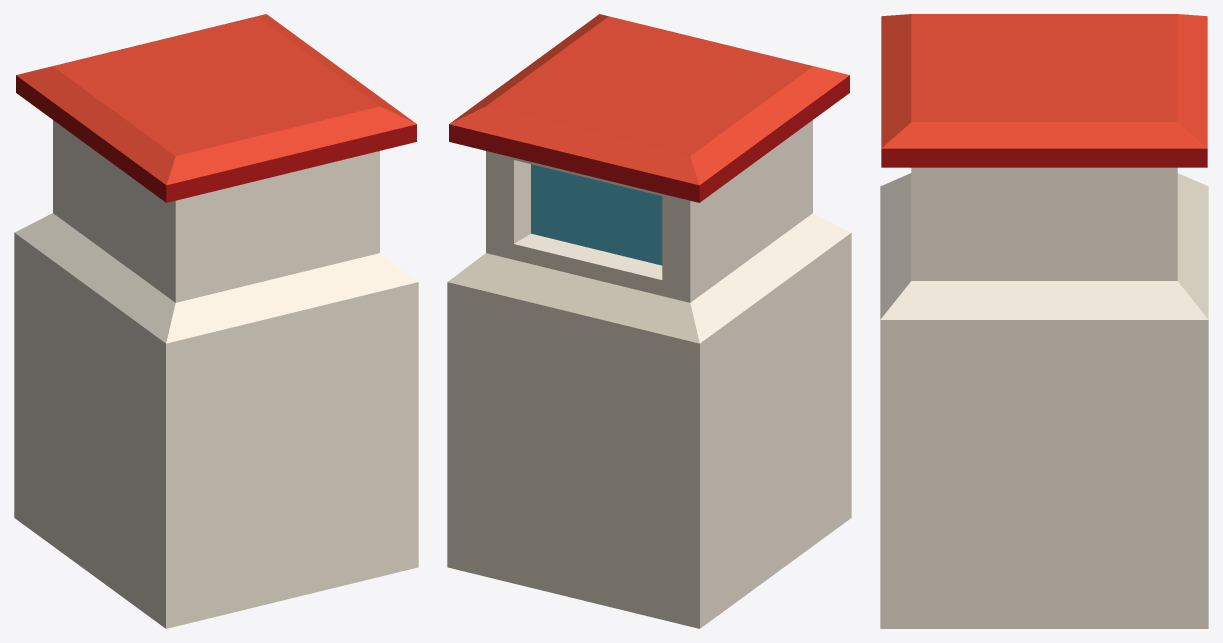
Rendered from WatchTower.fbx.
The picture shows the model from 3 angles, left to right: view 1: azimuth 30°, elevation 25°; view 2: azimuth 150°, elevation 25°; view 3: azimuth 270°, elevation 25°; orthographic projection. The views are drawn at different scales.
Visible parts, largest first — view 1: WatchTower; view 2: WatchTower; view 3: WatchTower.
Boxes of the visible parts, <box> form: WatchTower: <box>14,14,418,628</box>; WatchTower: <box>447,14,851,628</box>; WatchTower: <box>880,14,1208,628</box>.
Bounding box in the file's own units: 39.23 × 67.78 × 40.83.
